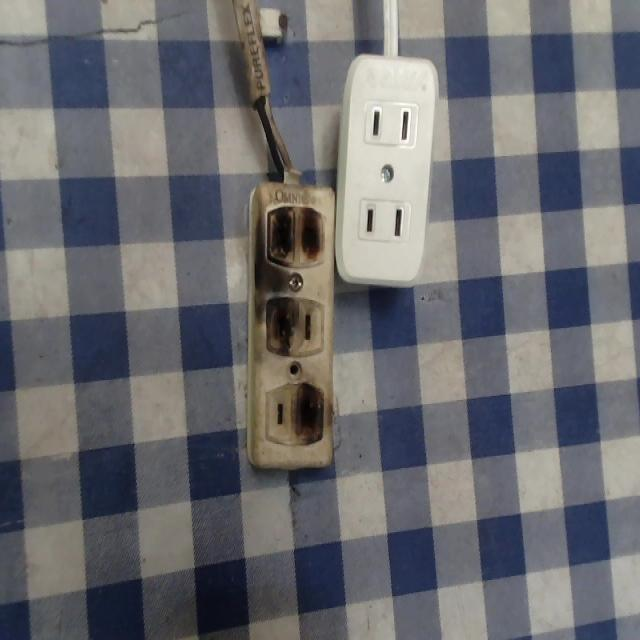-: (258, 194, 333, 274), (289, 378, 328, 454), (262, 291, 299, 356)
